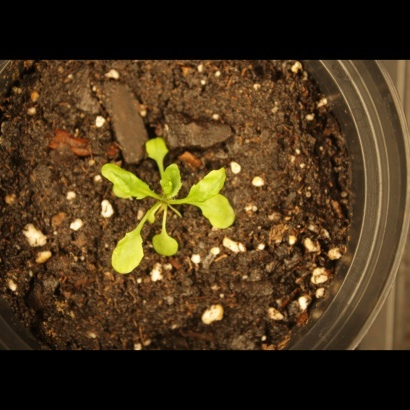leaf: (109, 222, 153, 283), (95, 156, 150, 202), (195, 194, 238, 232), (186, 168, 232, 203), (149, 225, 181, 260), (159, 162, 182, 203), (142, 135, 174, 161)
